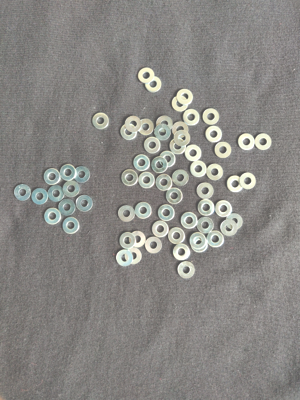circle: (173, 244, 191, 261), (185, 144, 202, 162), (197, 217, 215, 234), (255, 133, 272, 151), (116, 250, 133, 267), (125, 248, 142, 265), (129, 231, 146, 248), (63, 217, 80, 234), (44, 208, 61, 225), (145, 237, 162, 254), (14, 184, 31, 201), (31, 188, 48, 205), (59, 199, 76, 216), (76, 195, 93, 212), (118, 205, 135, 222), (135, 202, 152, 219), (152, 221, 169, 238), (158, 204, 175, 221), (138, 172, 155, 189), (92, 113, 109, 130), (125, 116, 142, 133), (178, 262, 195, 279), (181, 212, 198, 229), (144, 137, 161, 154), (174, 130, 191, 147), (170, 138, 187, 155), (159, 151, 176, 168), (190, 161, 207, 178), (207, 164, 224, 181), (227, 176, 244, 193), (240, 173, 257, 190), (197, 183, 214, 200), (215, 200, 232, 217), (221, 220, 238, 237), (190, 233, 207, 250), (191, 236, 208, 253), (207, 231, 224, 248), (183, 109, 200, 126), (203, 108, 220, 125), (215, 141, 232, 158), (120, 232, 136, 250), (138, 118, 154, 136), (48, 186, 65, 202), (63, 181, 80, 197), (44, 169, 61, 185), (60, 164, 76, 181), (74, 166, 90, 183), (166, 188, 183, 204), (156, 175, 173, 191), (121, 170, 138, 186), (134, 154, 150, 171), (120, 124, 137, 140), (168, 228, 185, 244), (155, 124, 171, 141), (172, 96, 189, 112), (198, 200, 215, 216), (227, 213, 243, 230), (206, 126, 222, 143), (239, 133, 255, 150), (145, 76, 162, 92), (138, 68, 155, 84), (152, 157, 168, 174), (173, 170, 189, 186), (157, 116, 173, 132), (177, 89, 193, 105), (173, 122, 189, 138)
